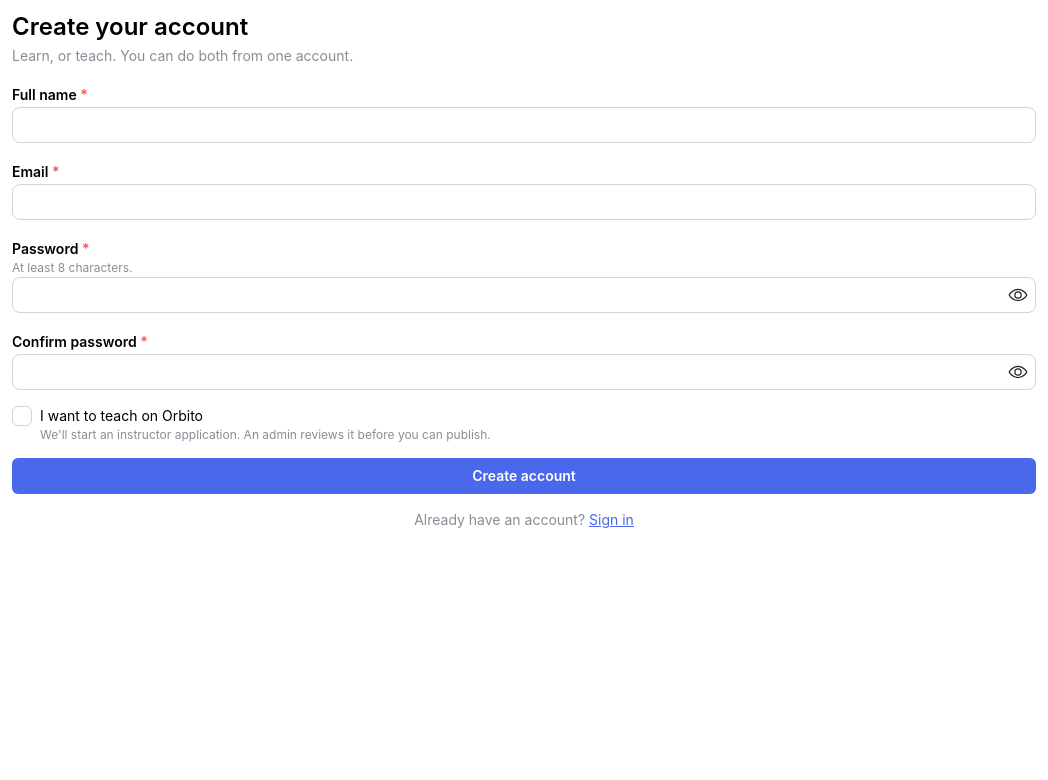
Test case: RegisterRoute › shows the server’s refusal when the academy is not taking sign-ups
In the field labelled "Full name *": [524, 125] box [12,107,1036,143], type "Ada Lovelace"
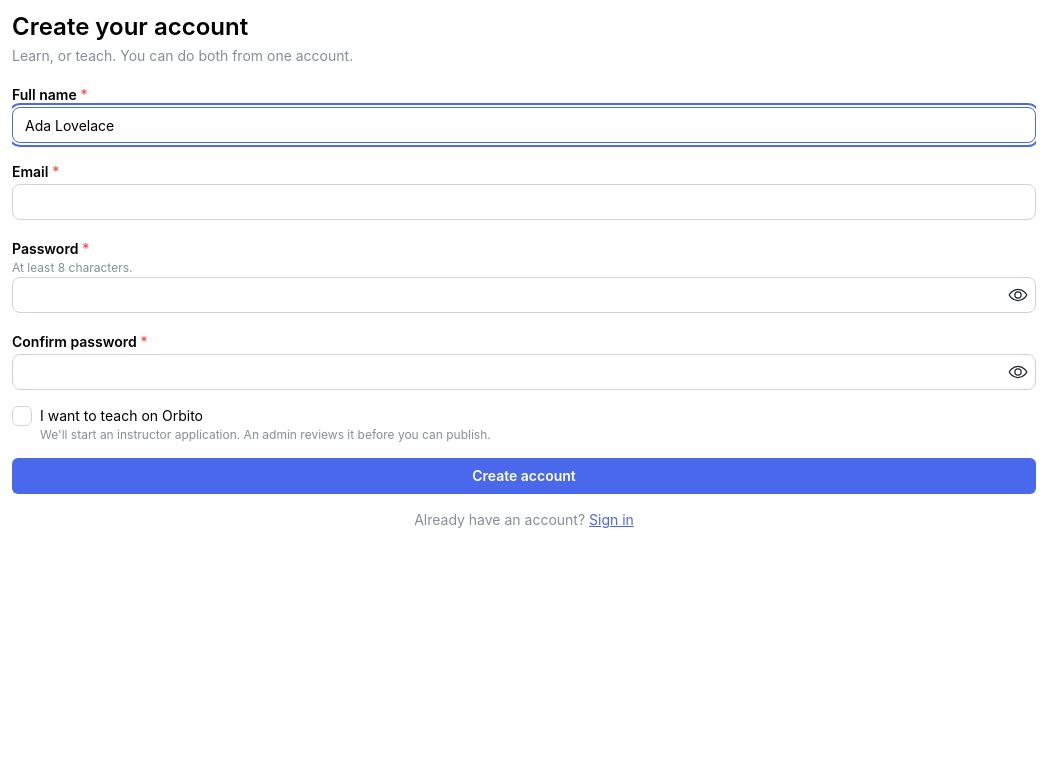
In the field labelled "Email *": [524, 202] box [12,184,1036,220], type "ada@example.com"
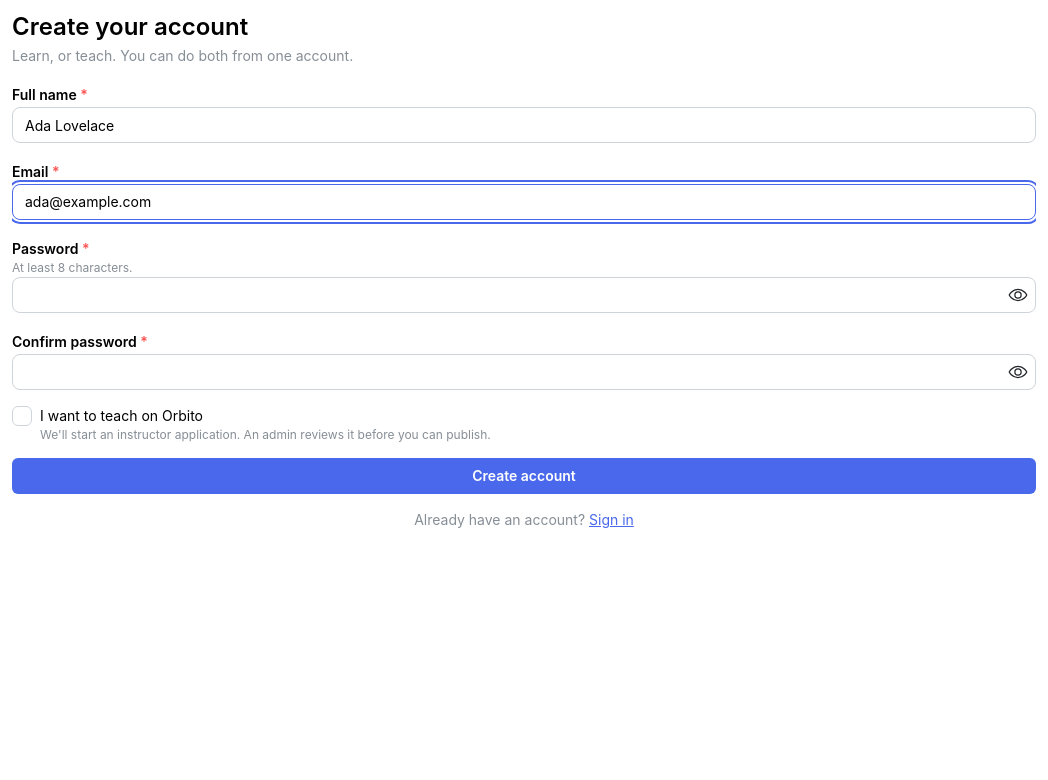
In the password field labelled "Password *": [524, 295] box [13,278,1035,312], type "correct horse battery"
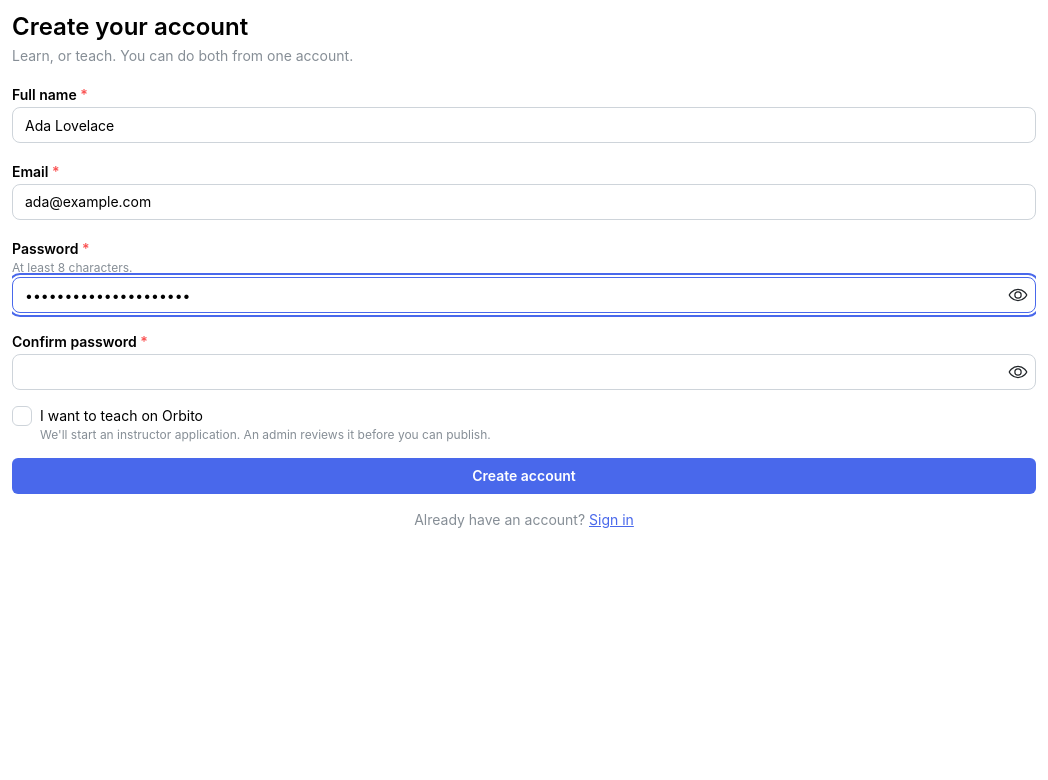
In the password field labelled "Confirm password *": [524, 372] box [13,355,1035,389], type "correct horse battery"
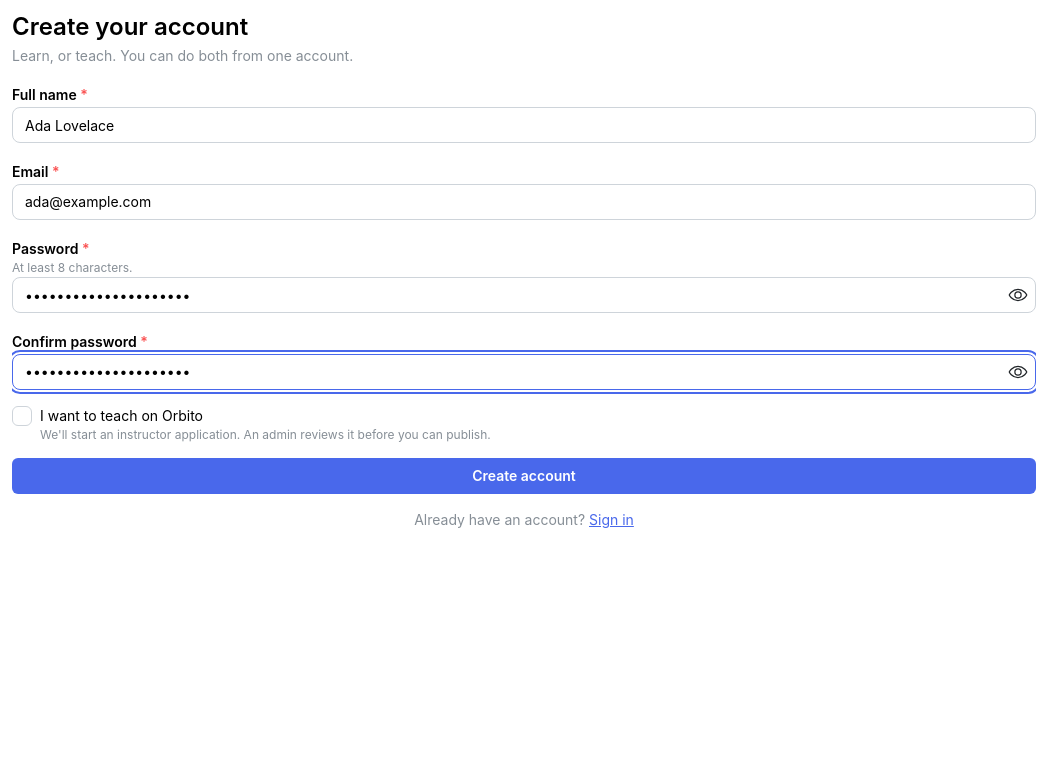
Click the button "Create account": [524, 476] box [12,458,1036,494]
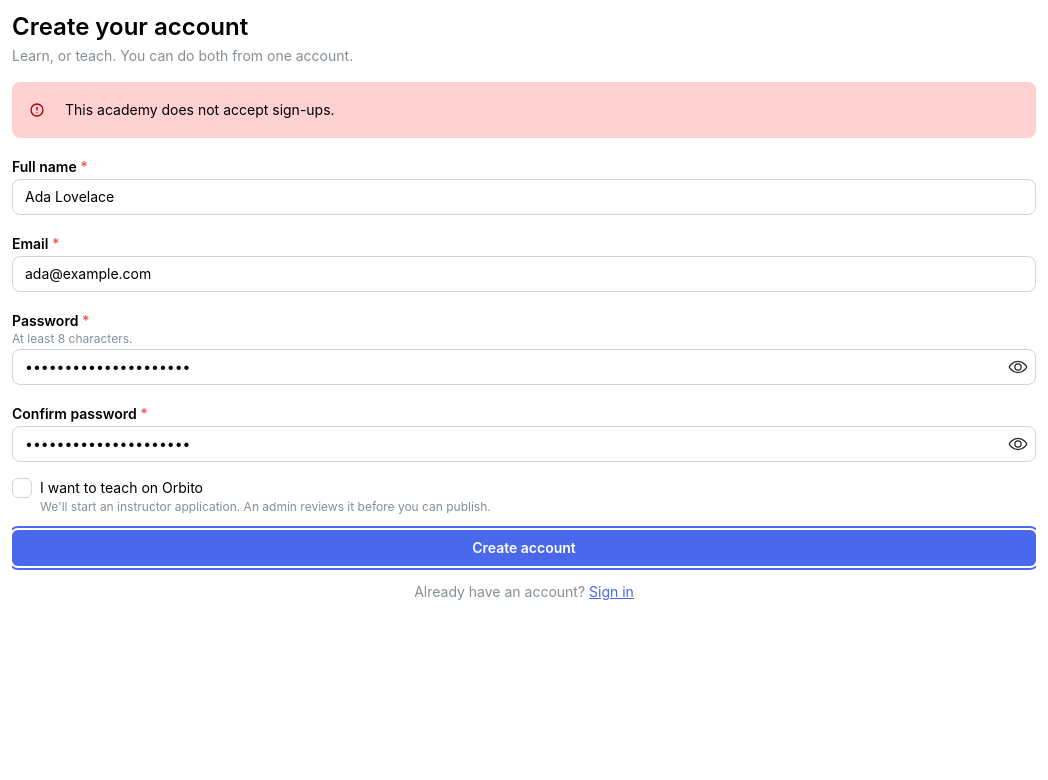
expect the message shows "does not accept sign-ups": met, box [65,101,335,118]
